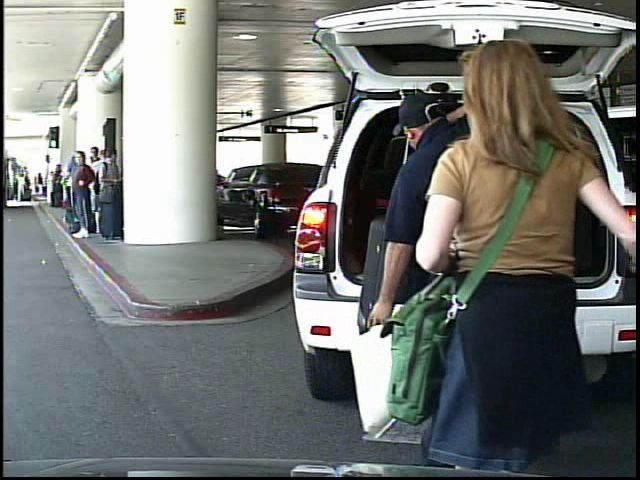person: (414, 52, 616, 470), (362, 87, 551, 461), (17, 174, 28, 205), (35, 172, 46, 199)
